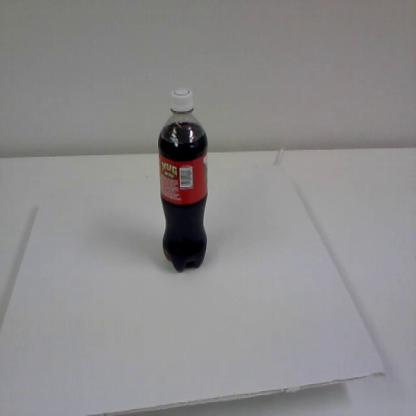bottle: (156, 84, 209, 274)
